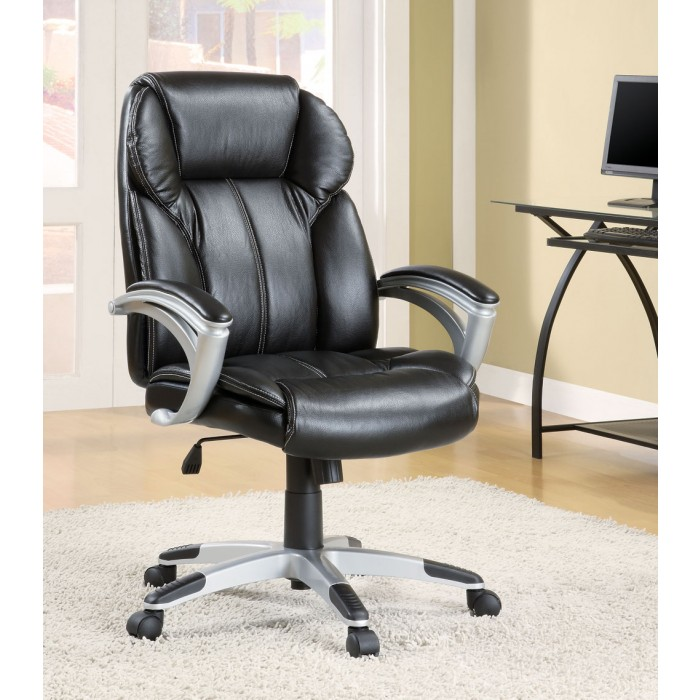chairs: (90, 62, 510, 663)
